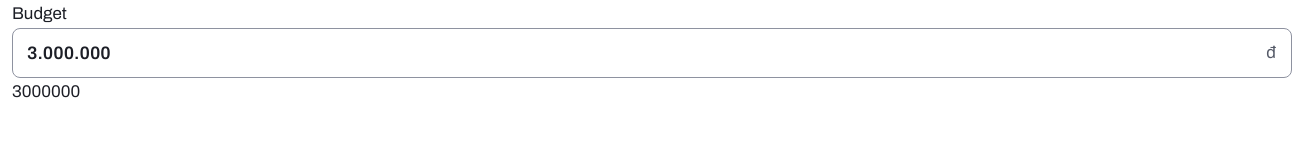
Test: MoneyInput editing › replaces the whole amount after select-all
This screenshot has width=1304, height=160.
Click the field labelled "Budget" at (652, 53), box 12,28 -> 1292,78
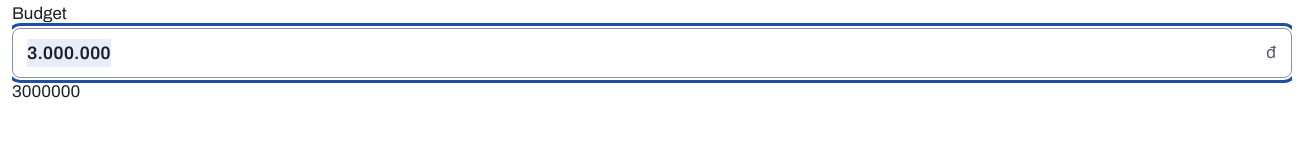
Type keys "10000000"
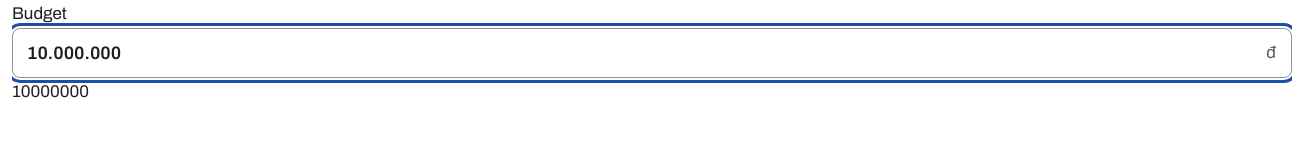
Expected: the text "10000000" is shown, 12,82 -> 89,101
Expected: the field labelled "Budget" holds "10.000.000", 12,28 -> 1292,78
